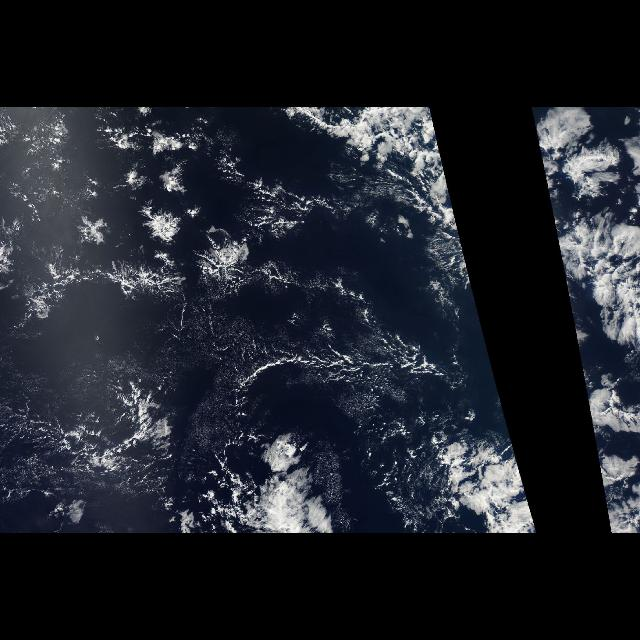Flower: (22, 110, 308, 330)
Gravel: (14, 412, 246, 526)
